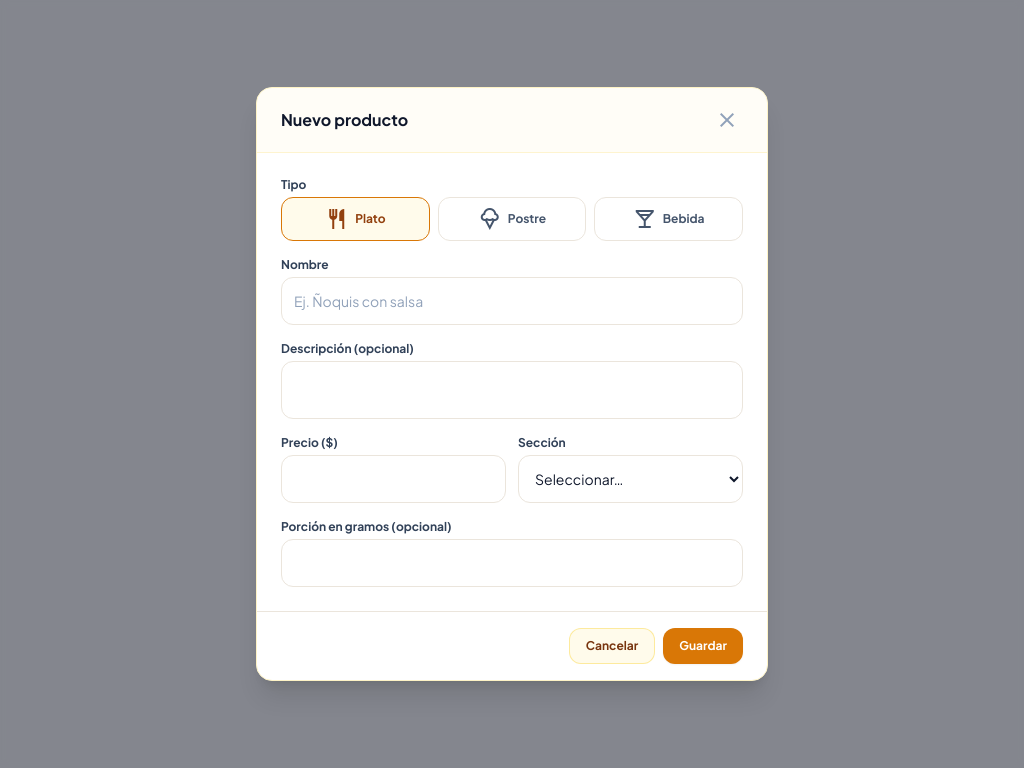
Test: ProductoForm › muestra el error del backend (CA2)
Type "Ñoquis con salsa" into the field labelled "Nombre" at (512, 301), box [281,277,743,325]
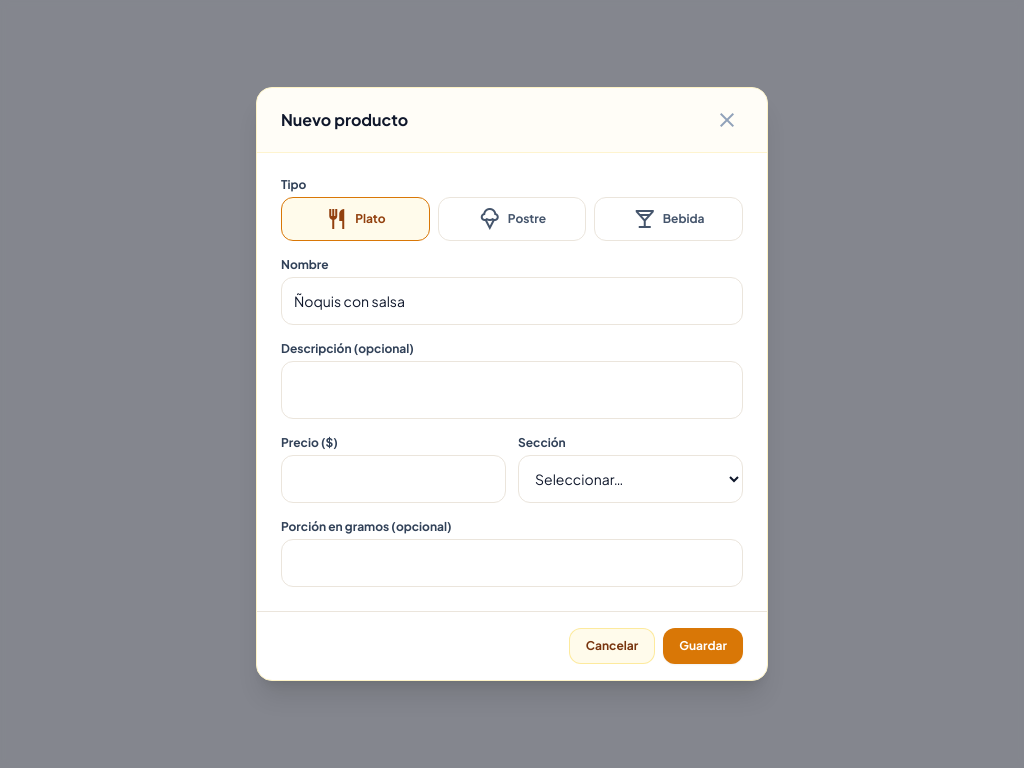
Type "5000" into the number field labelled "Precio ($)" at (394, 479), box [281,455,506,503]
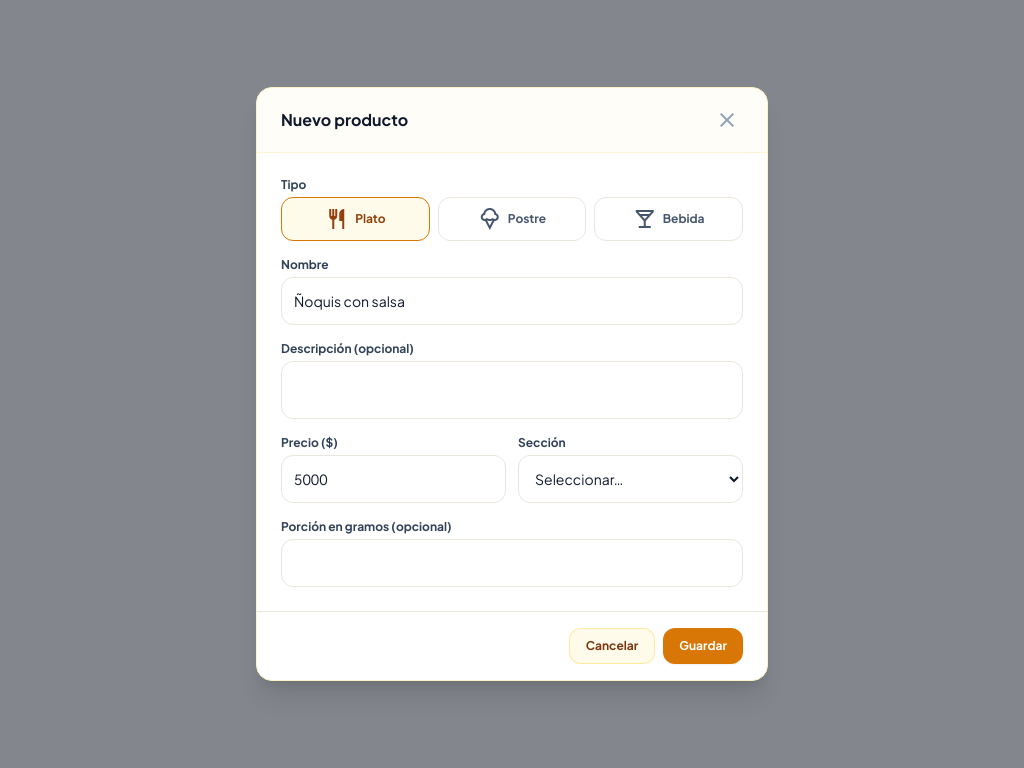
Select "Pastas" in the dropdown labelled "Sección" at (630, 479), box [518,455,743,503]
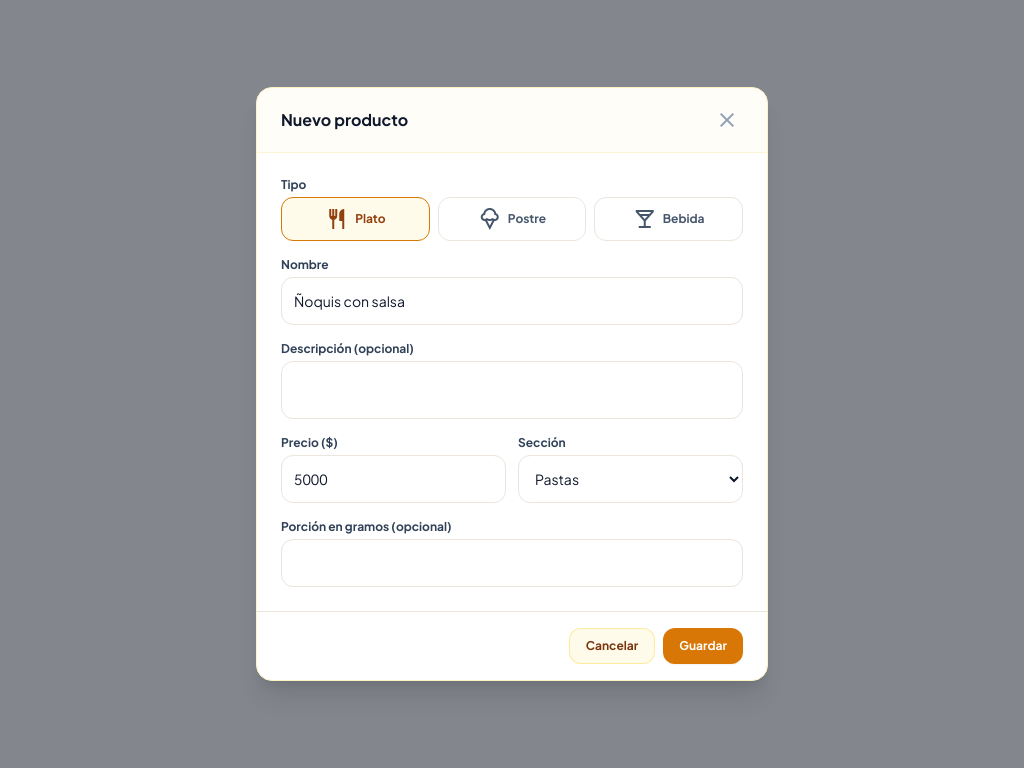
Click the button "Guardar" at (703, 646), box [663,628,743,664]
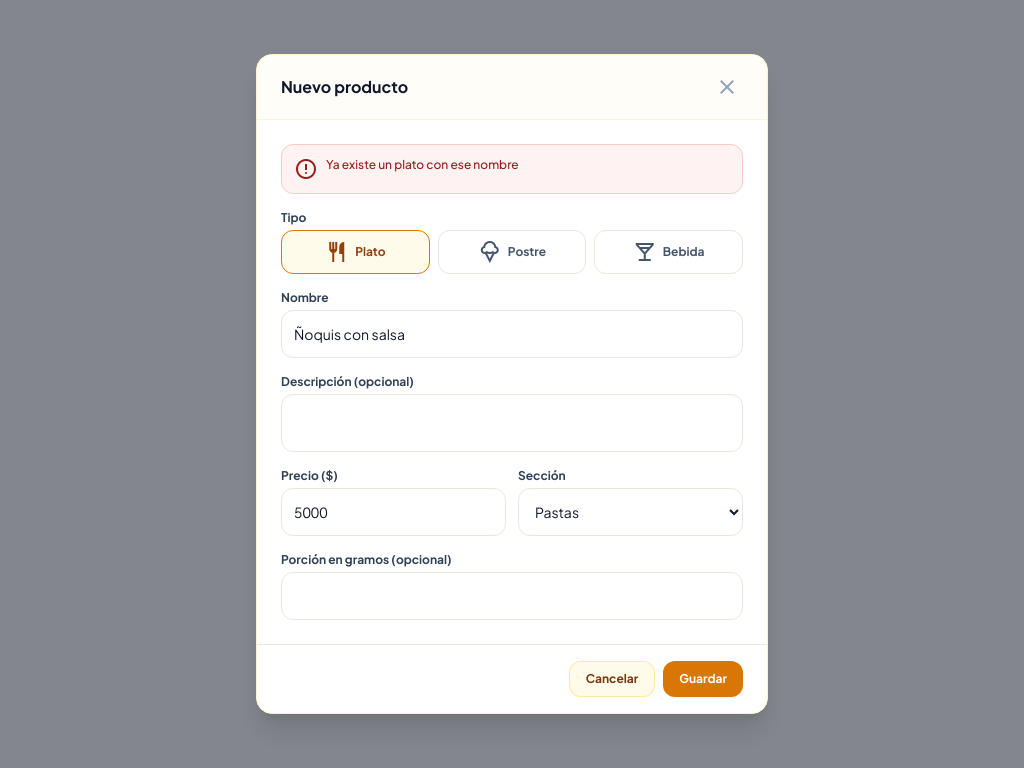
Now the text "Ya existe un plato con ese nombre" is shown, box [326,157,519,172]
